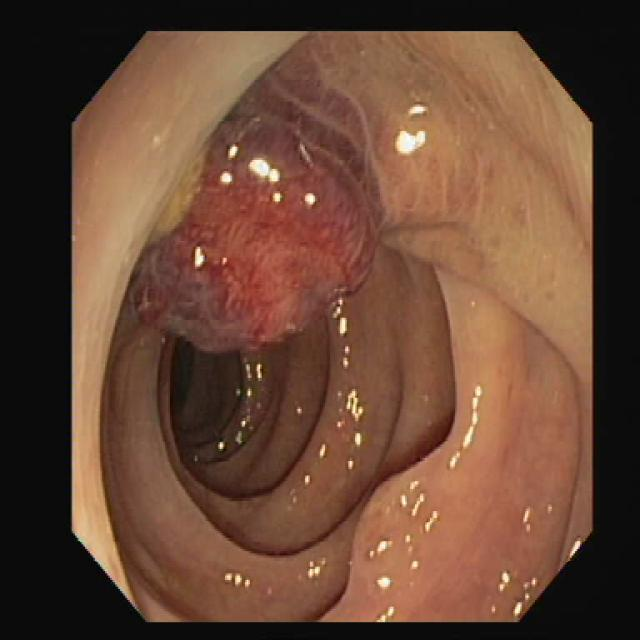tumor: (133, 80, 382, 349), (350, 449, 438, 564)
